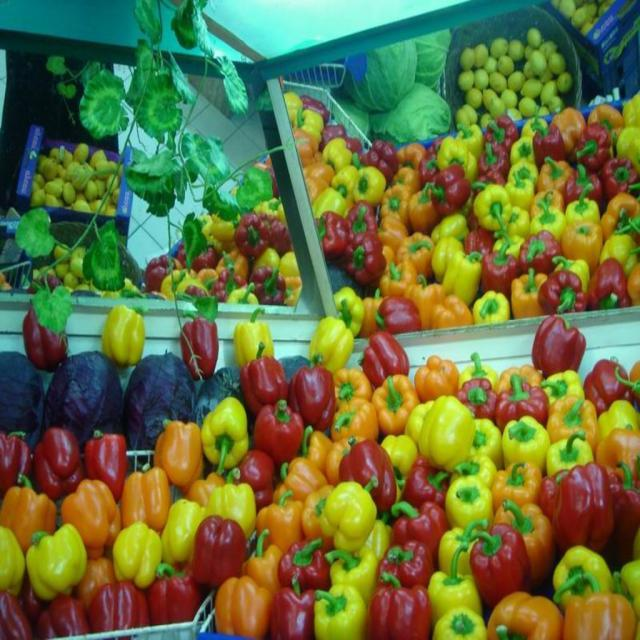Bell pepper: (1, 93, 639, 639)
